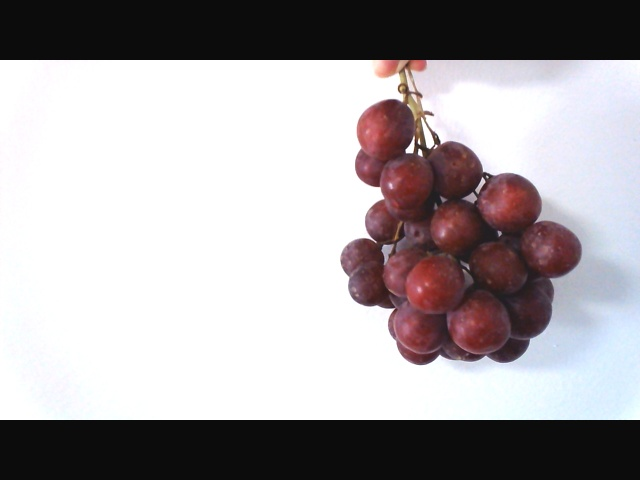grape: (334, 101, 583, 368)
